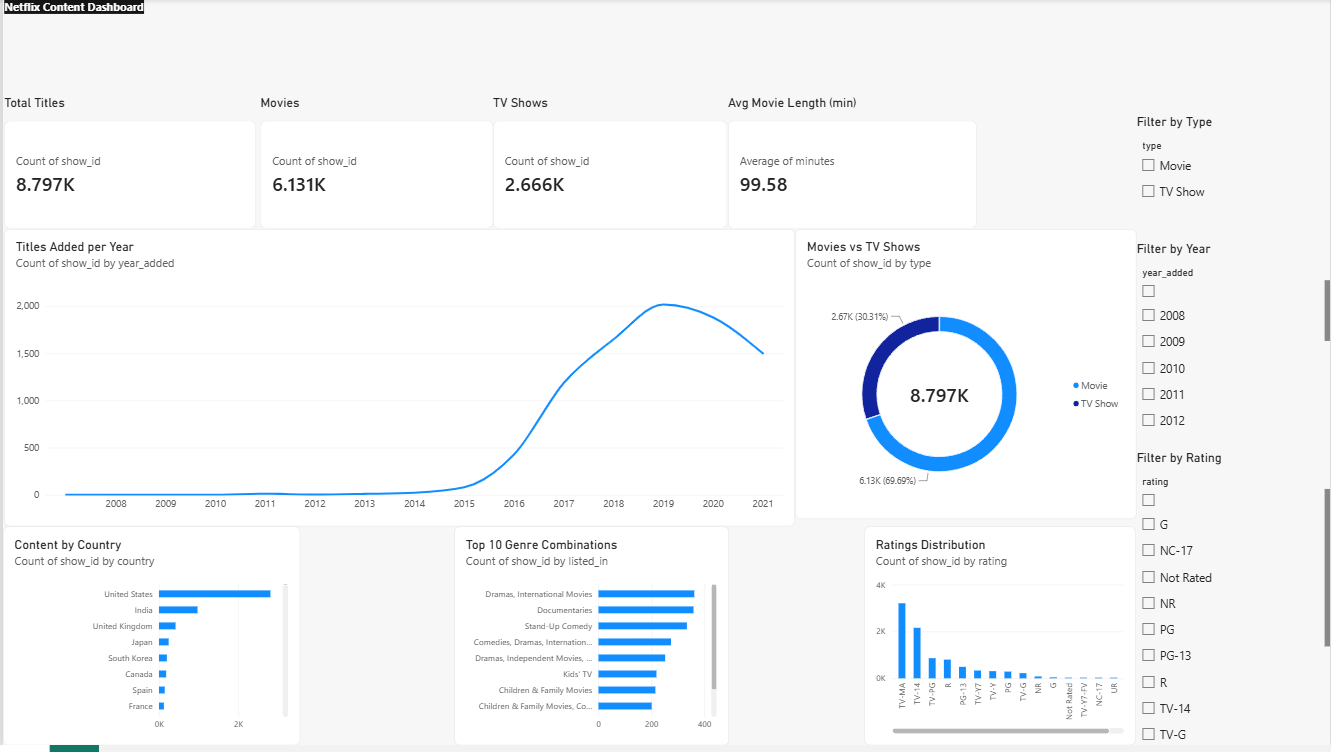

Layout of this report page (visuals, bound fields, positions):
{"tool":"powerbi","page":{"name":"Page 1","canvas":[1920,1080],"ordinal":0},"visuals":[{"type":"cardVisual","title":"Total Titles","fields":{"Data":["CountNonNull(netflix_dashboard.show_id)"]},"box":[2.1,140,364.3,193.5],"z":0},{"type":"cardVisual","title":"Movies","fields":{"Data":["CountNonNull(netflix_dashboard.show_id)"]},"box":[372.6,140,337.6,193.5],"z":1000},{"type":"cardVisual","title":"TV Shows","fields":{"Data":["CountNonNull(netflix_dashboard.show_id)"]},"box":[710.1,140,339.6,193.5],"z":2000},{"type":"cardVisual","title":"Avg Movie Length (min)","fields":{"Data":["Avg(netflix_dashboard.minutes)"]},"box":[1049.7,140,360.2,193.5],"z":3000},{"type":"donutChart","title":"Movies vs TV Shows","fields":{"Category":["netflix_dashboard.type"],"Y":["CountNonNull(netflix_dashboard.show_id)"]},"box":[1146.5,333.4,494,419.9],"z":4000},{"type":"lineChart","title":"Titles Added per Year","fields":{"Category":["netflix_dashboard.year_added"],"Y":["CountNonNull(netflix_dashboard.show_id)"]},"box":[2.1,333.4,1144.4,430.2],"z":5000},{"type":"clusteredBarChart","title":"Content by Country","fields":{"Category":["netflix_dashboard.country"],"Y":["CountNonNull(netflix_dashboard.show_id)"]},"box":[0,763.6,430.2,317],"z":6000},{"type":"clusteredBarChart","title":"Top 10 Genre Combinations","fields":{"Category":["netflix_dashboard.listed_in"],"Y":["CountNonNull(netflix_dashboard.show_id)"]},"box":[652.5,763.6,397.3,317],"z":7000},{"type":"clusteredColumnChart","title":"Ratings Distribution","fields":{"Category":["netflix_dashboard.rating"],"Y":["CountNonNull(netflix_dashboard.show_id)"]},"box":[1247.3,763.6,393.1,317],"z":8000},{"type":"slicer","title":"Filter by Type","fields":{"Values":["netflix_dashboard.type"]},"box":[1640.5,140,279.9,140],"z":9000},{"type":"slicer","title":"Filter by Year","fields":{"Values":["netflix_dashboard.year_added"]},"box":[1640.5,477.5,279.9,207.9],"z":10000},{"type":"slicer","title":"Filter by Rating","fields":{"Values":["netflix_dashboard.rating"]},"box":[1640.5,710.1,279.9,370.5],"z":11000},{"type":"textbox","box":[1230.9,710.1,498.1,105],"z":12000},{"type":"textbox","box":[430,764,716,316],"z":13000},{"type":"textbox","box":[2.1,0,1918.4,140],"z":14000},{"type":"slicer","fields":{"Values":["netflix_dashboard.country"]},"box":[1640.5,290.2,279,150],"z":14001}]}

Visuals, with their boxes in screenshot pixels (x1, y1, x2, y2), scaled from the page's 1920x1080 canvas onto the 1331x752 screenshot:
"Total Titles" cardVisual: BBox(1, 97, 254, 232)
"Movies" cardVisual: BBox(258, 97, 492, 232)
"TV Shows" cardVisual: BBox(492, 97, 728, 232)
"Avg Movie Length (min)" cardVisual: BBox(728, 97, 977, 232)
"Movies vs TV Shows" donutChart: BBox(795, 232, 1137, 525)
"Titles Added per Year" lineChart: BBox(1, 232, 795, 532)
"Content by Country" clusteredBarChart: BBox(0, 532, 298, 751)
"Top 10 Genre Combinations" clusteredBarChart: BBox(452, 532, 728, 751)
"Ratings Distribution" clusteredColumnChart: BBox(865, 532, 1137, 751)
"Filter by Type" slicer: BBox(1137, 97, 1330, 195)
"Filter by Year" slicer: BBox(1137, 332, 1330, 477)
"Filter by Rating" slicer: BBox(1137, 494, 1330, 751)
textbox: BBox(853, 494, 1199, 568)
textbox: BBox(298, 532, 794, 751)
textbox: BBox(1, 0, 1330, 97)
slicer - netflix_dashboard.country: BBox(1137, 202, 1330, 307)
